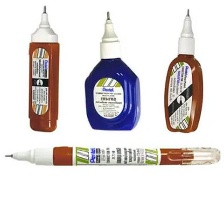correction_fluid: (81, 10, 141, 131), (161, 8, 206, 137), (0, 144, 224, 169), (25, 3, 61, 135)
